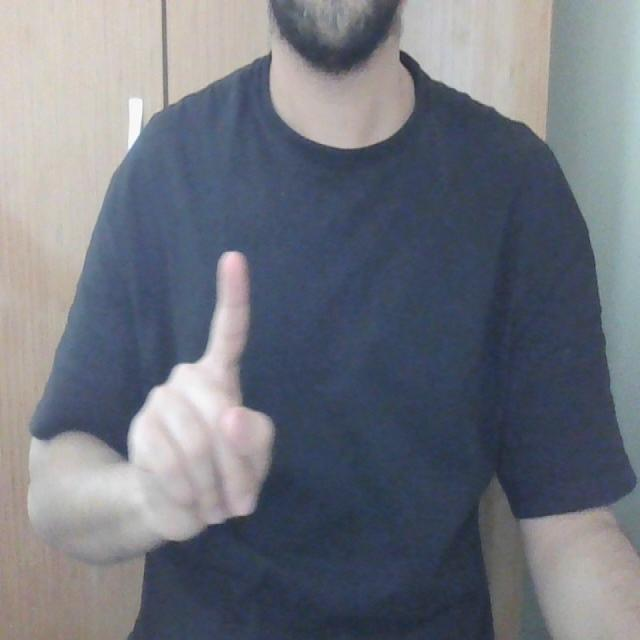Hayir: (126, 211, 283, 575)
